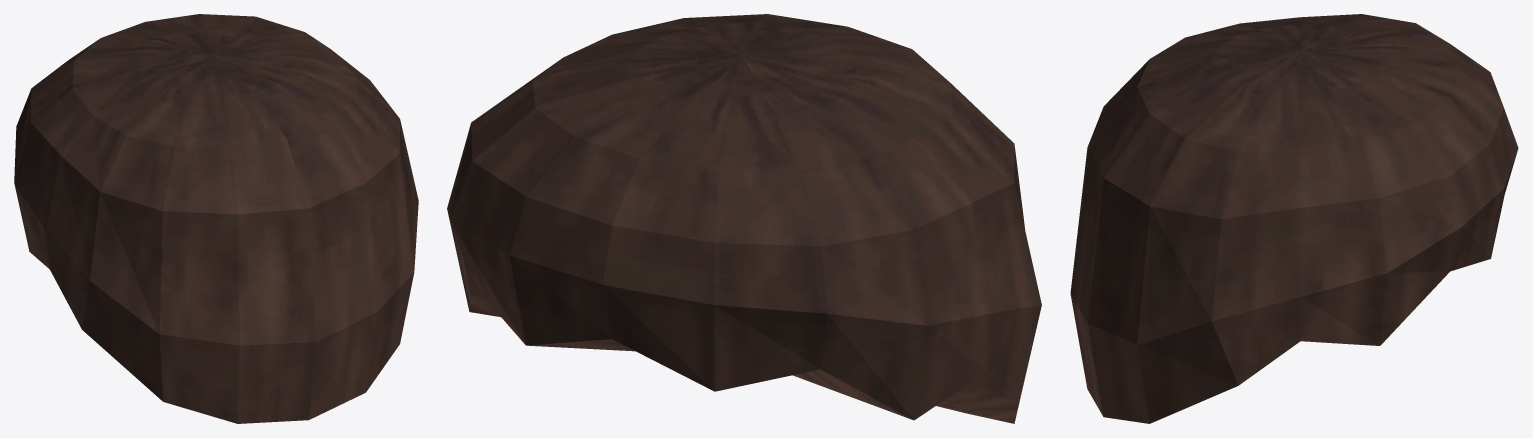
The model's file is BoyHair.gltf.
The picture shows the model from 3 angles, left to right: view 1: azimuth 30°, elevation 25°; view 2: azimuth 150°, elevation 25°; view 3: azimuth 270°, elevation 25°; orthographic projection. The views are drawn at different scales.
Visible parts, largest first — view 1: Sphere; view 2: Sphere; view 3: Sphere.
Part boxes in pixels (x1=…): Sphere: x1=14, y1=14, x2=418, y2=423; Sphere: x1=447, y1=14, x2=1041, y2=423; Sphere: x1=1070, y1=14, x2=1518, y2=423.
Size of the model in its own units: 0.75 by 0.625 by 0.75.
Materials: 1 (1 with a texture image).
